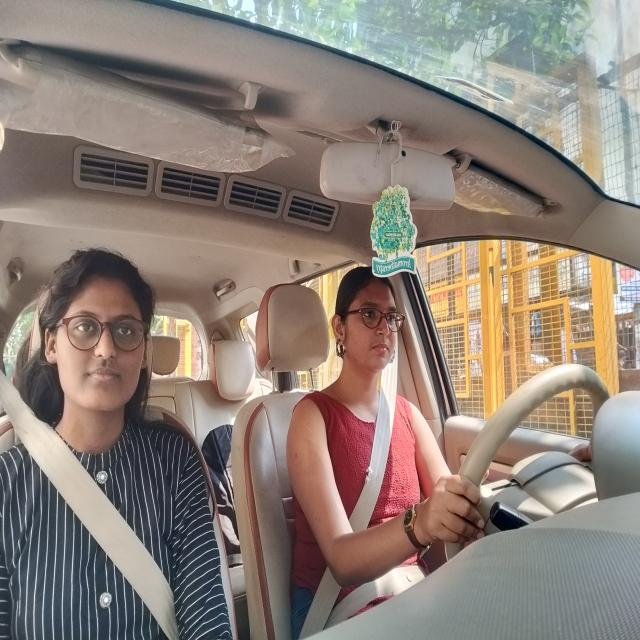person: (37, 248, 155, 420), (334, 271, 406, 382)
